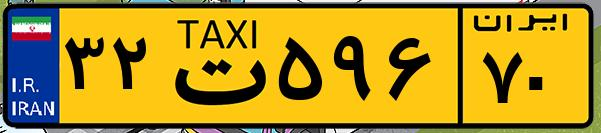0: (525, 38, 570, 115)
2: (110, 28, 158, 98)
3: (57, 26, 110, 100)
5: (270, 28, 330, 110)
6: (385, 28, 445, 110)
7: (475, 38, 525, 113)
9: (330, 28, 385, 110)
ت: (158, 12, 270, 120)
